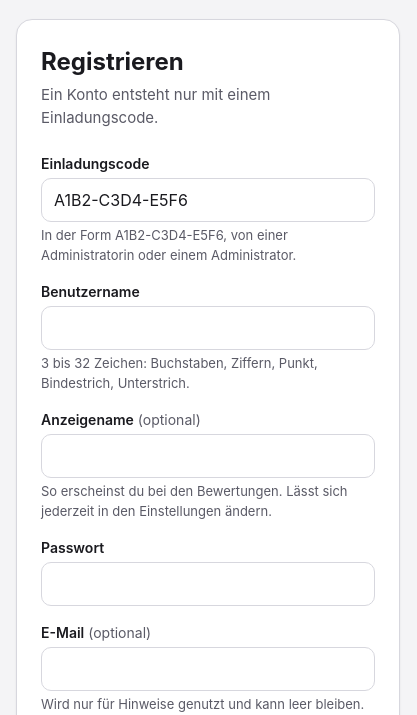
it: RegisterPage › puts a taken username next to its field
Type "anna" into the field labelled "Benutzername" at [208, 328], box [41,306,375,350]
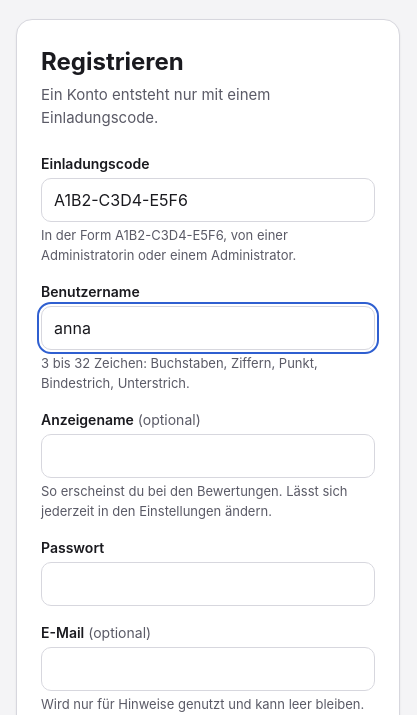
Type "ein-gutes-passwort" into the password field labelled "Passwort" at [208, 584], box [41,562,375,606]
(page scrolled)
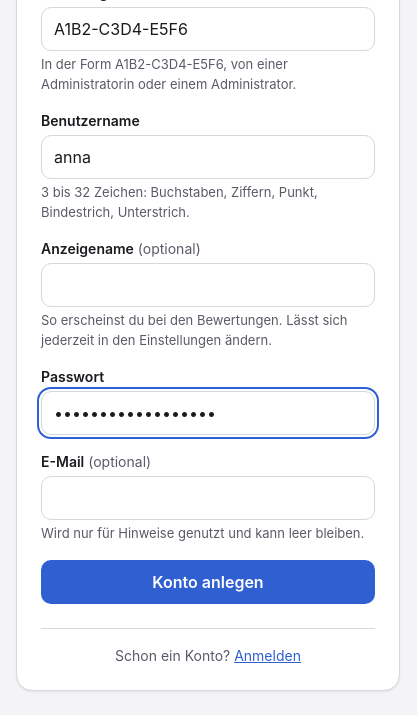
Click the button "Konto anlegen" at [208, 582], box [41,560,375,604]
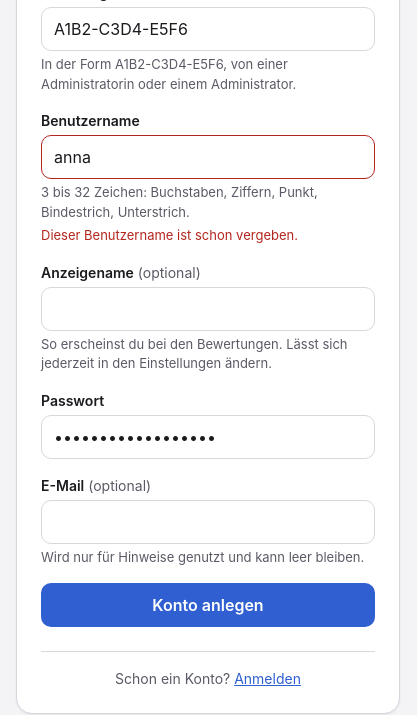
Now the text "Dieser Benutzername ist schon vergeben." is shown, box [41,227,298,243]
